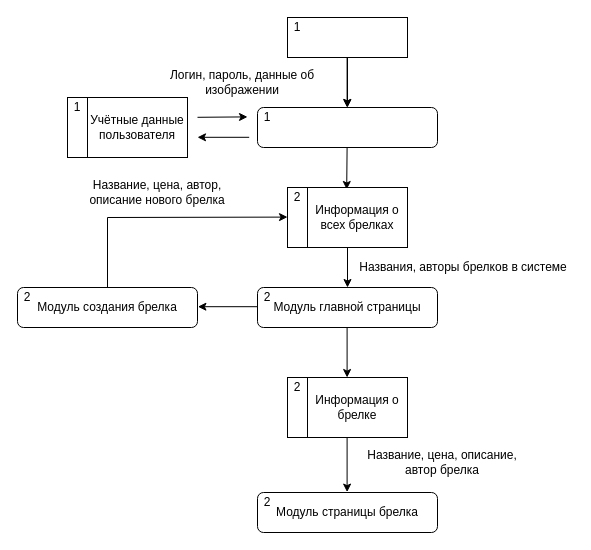
The diagram is 591 pixels wide and 550 high, and some of its shapes have lost their labels. The box of each missing label's shape, as (x1, y1, x2, y2) in pixels:
Модуль регистрации и авторизации: (256, 106, 438, 148)
Пользователь: (286, 16, 408, 58)
